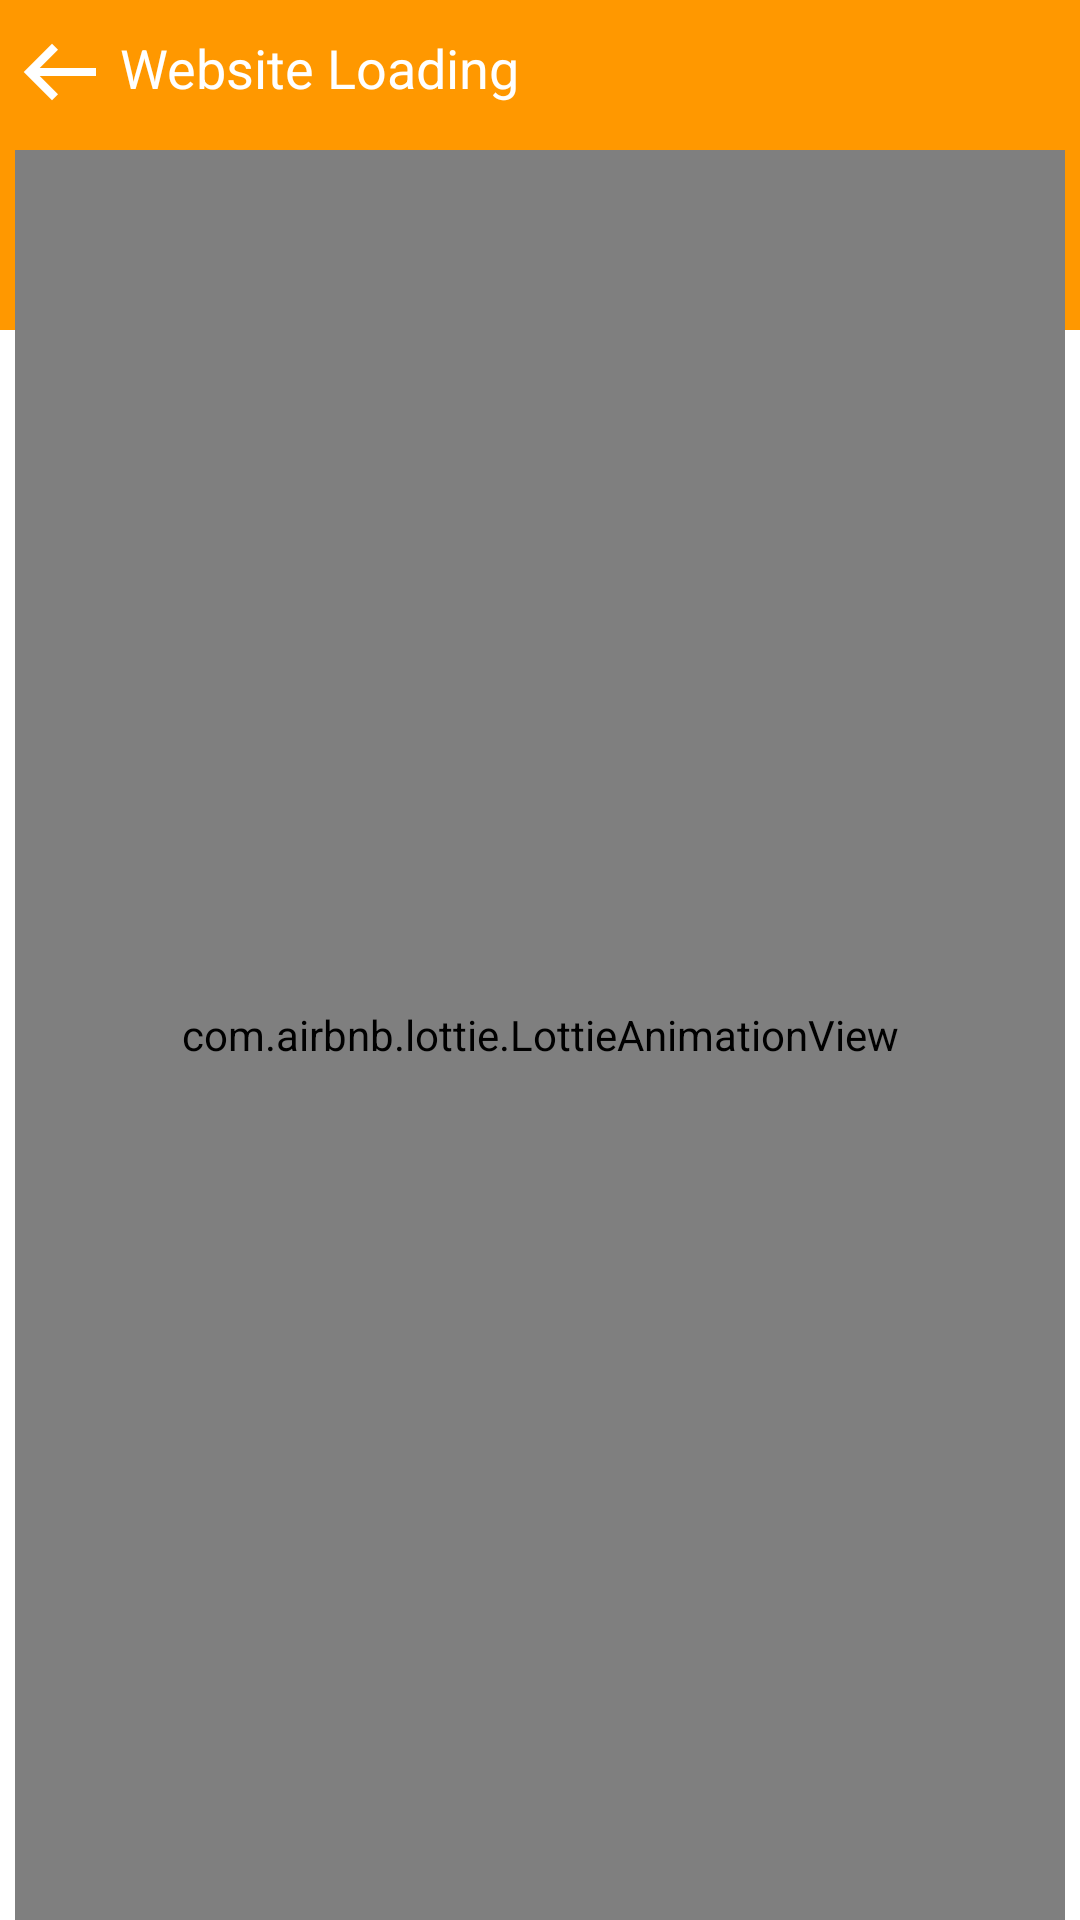

Icon bounding boxes for this 1080×1920 phone screenshot, format (x1, y1, x2, y2):
goback: (24, 44, 96, 100)
